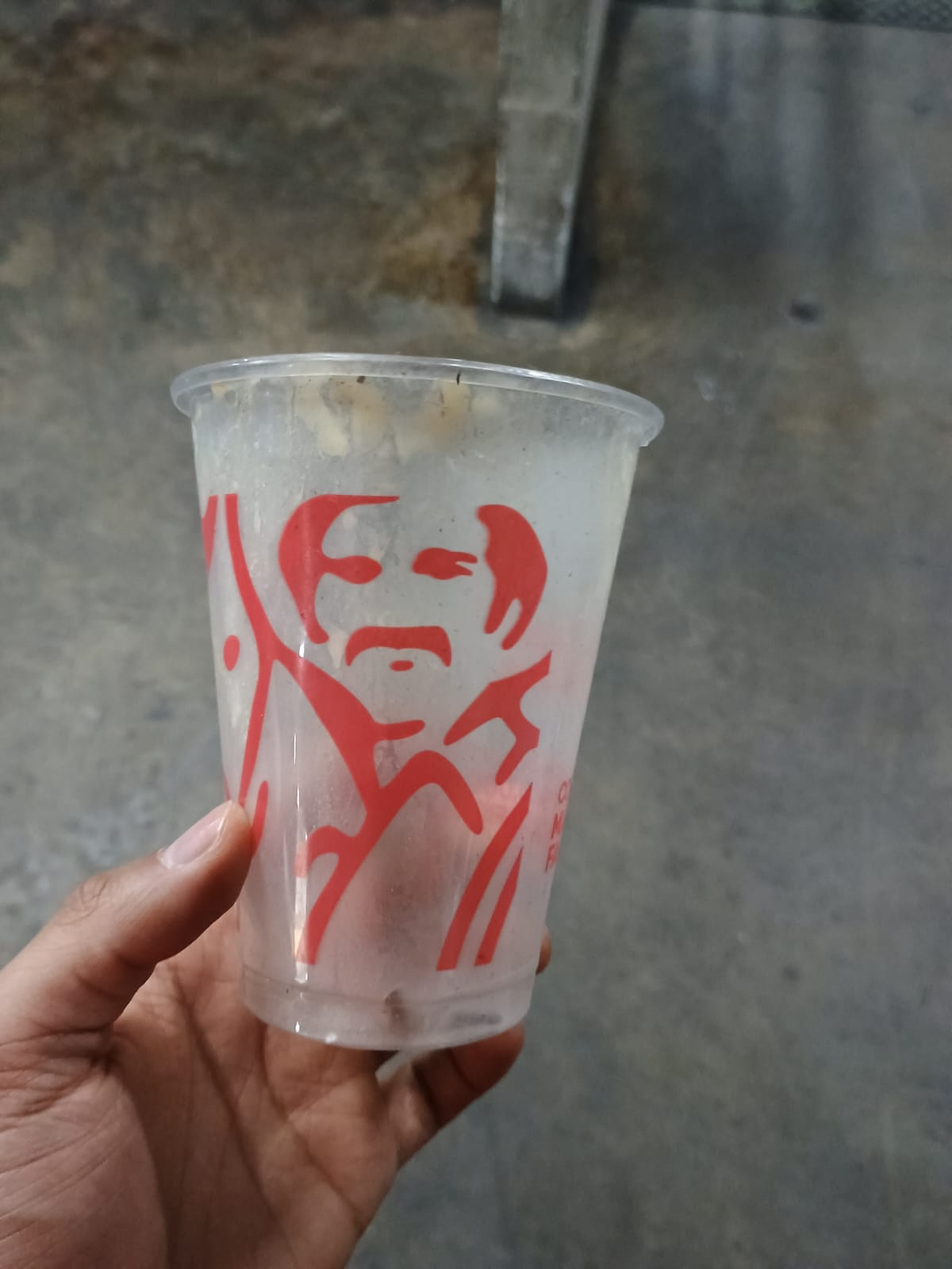Plastico: (170, 354, 662, 1050)
